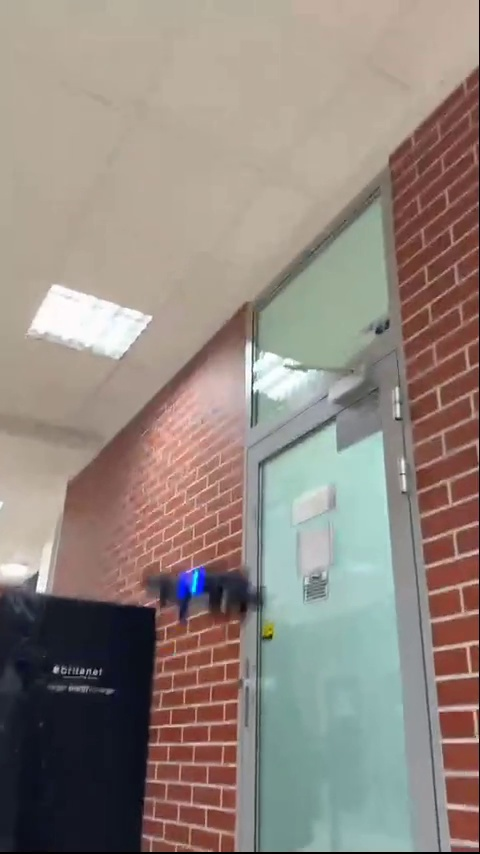drone: (140, 559, 262, 626)
